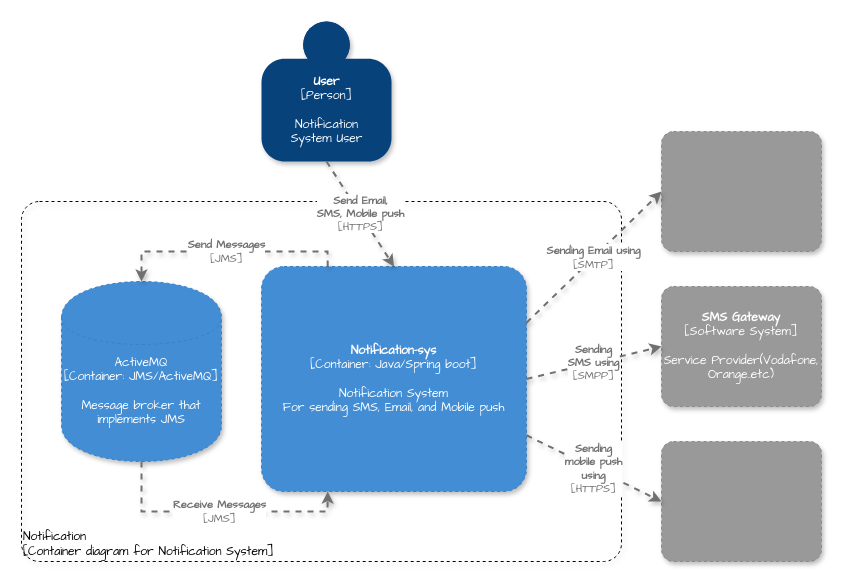
Image size: 845x586. Some labels were removed from this diagram. Here are the shapes that lost their labels. From the top down, the centre of each, then its label:
(742,192): E-mail System [Software System] Microsoft Exchange email system
(742,502): Firebase [Software System] a cross-platform messaging solution
